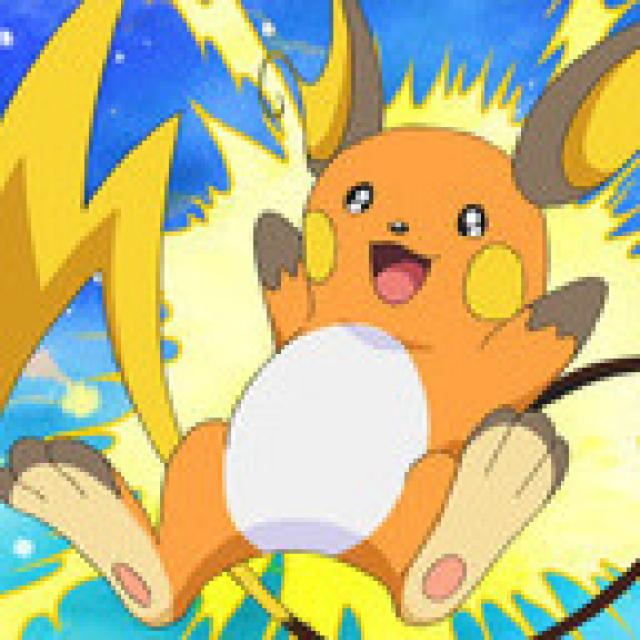Raichu: (225, 0, 613, 610)
